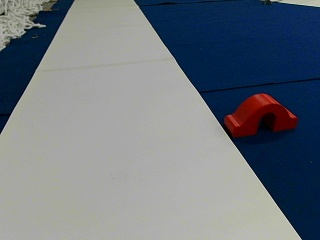bridge: (226, 93, 296, 134)
